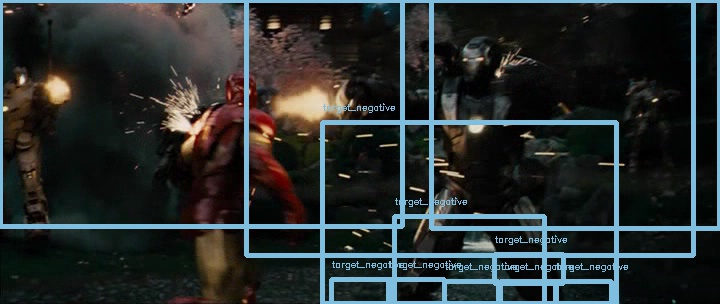person: (219, 69, 259, 109), (218, 69, 258, 109), (220, 69, 260, 109), (219, 68, 259, 108), (219, 70, 259, 110)
target_negative: (136, 95, 516, 248), (534, 32, 713, 160), (65, 245, 526, 269), (400, 107, 648, 121), (629, 285, 711, 304)
